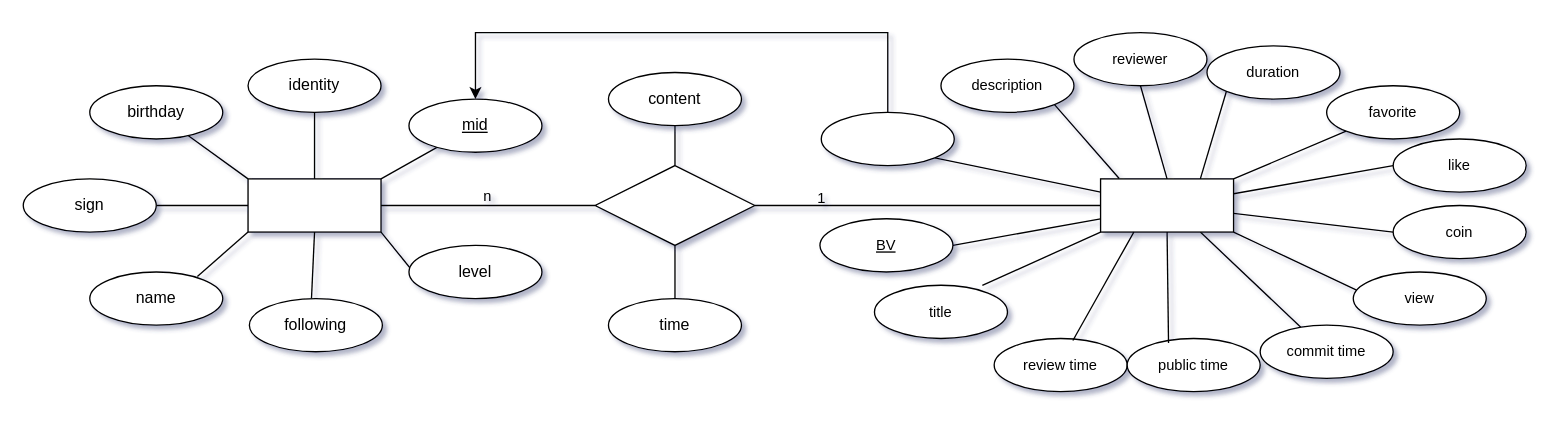
Image size: 1557x423. Some labels were removed from this diagram. The centre of each missing label's shape, as x and y in pixels:
"danmu" belongs at pixel 674 204.
"owner" belongs at pixel 887 138.
"user" belongs at pixel 314 205.
"videos" belongs at pixel 1166 205.
